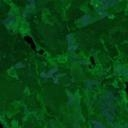alloviz: (22, 34, 44, 55), (87, 55, 96, 66)
